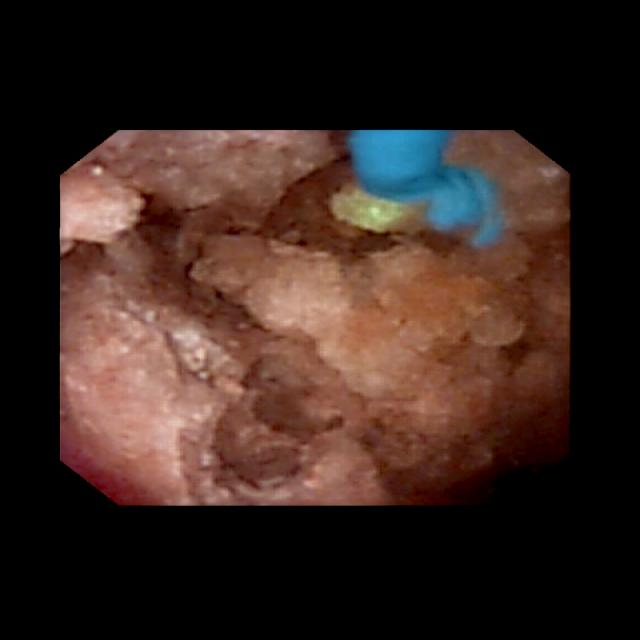fiber: (354, 131, 493, 243)
stone: (69, 135, 564, 500)
